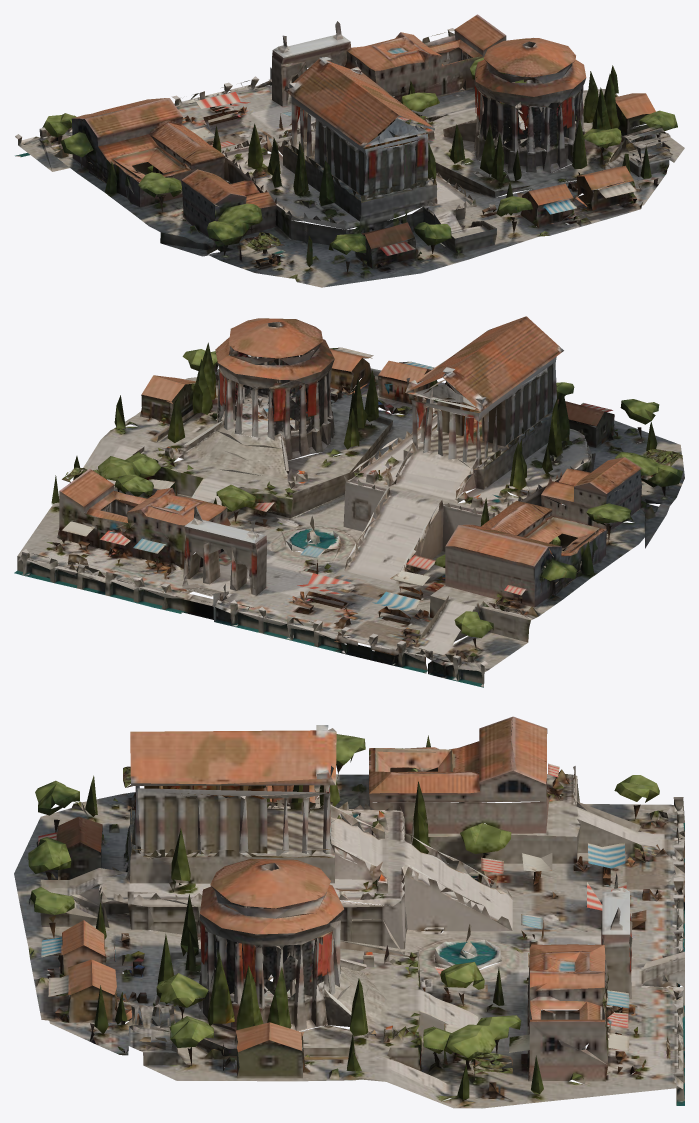
Rendered from landmark_rome.glb.
The picture shows the model from 3 angles, top to bottom: view 1: azimuth 30°, elevation 25°; view 2: azimuth 150°, elevation 25°; view 3: azimuth 270°, elevation 25°; orthographic projection. The views are drawn at different scales.
Parts seen in each view (by area): view 1: landmark_rome; view 2: landmark_rome; view 3: landmark_rome.
Part boxes in pixels (bbox=[...]): landmark_rome: bbox=[15, 14, 684, 287]; landmark_rome: bbox=[14, 316, 684, 687]; landmark_rome: bbox=[14, 716, 684, 1108].
Bounding box in the file's own units: 18.4 × 5.59 × 16.54.
Materials: 1 (1 with a texture image).
